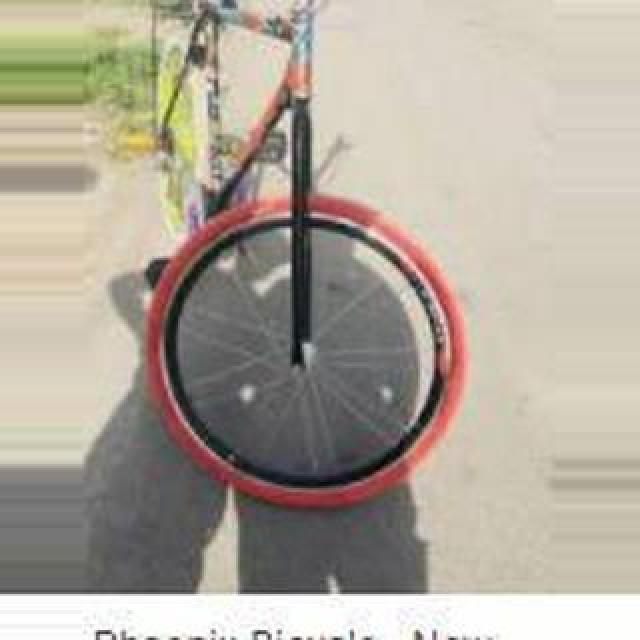Person: (136, 10, 466, 514)
